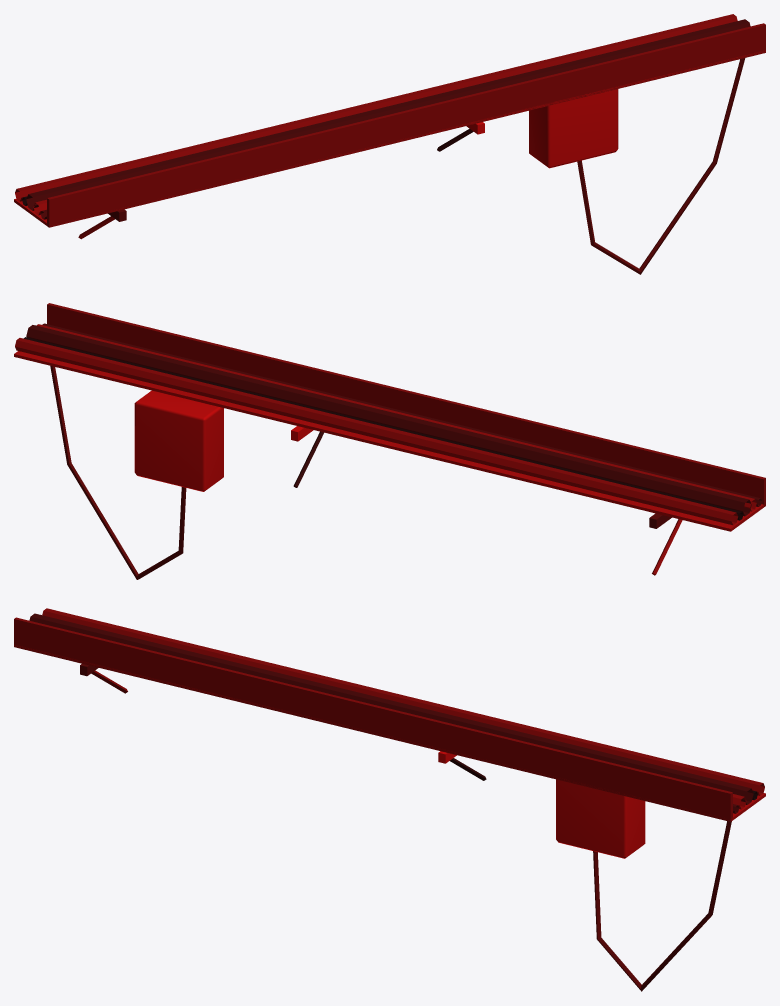
Rendered from conduit_h.glb.
3 views of the same model, one above another, from view 1: azimuth 30°, elevation 25°; view 2: azimuth 150°, elevation 25°; view 3: azimuth 330°, elevation 25° (orthographic).
Parts seen in each view (by area): view 1: conduit_h; view 2: conduit_h; view 3: conduit_h.
Part boxes in pixels (x1,y1,x2,y2): conduit_h: [14, 14, 765, 274]; conduit_h: [14, 303, 765, 579]; conduit_h: [14, 608, 765, 991].
Bounding box in the file's own units: 4 × 1.27 × 0.42.
